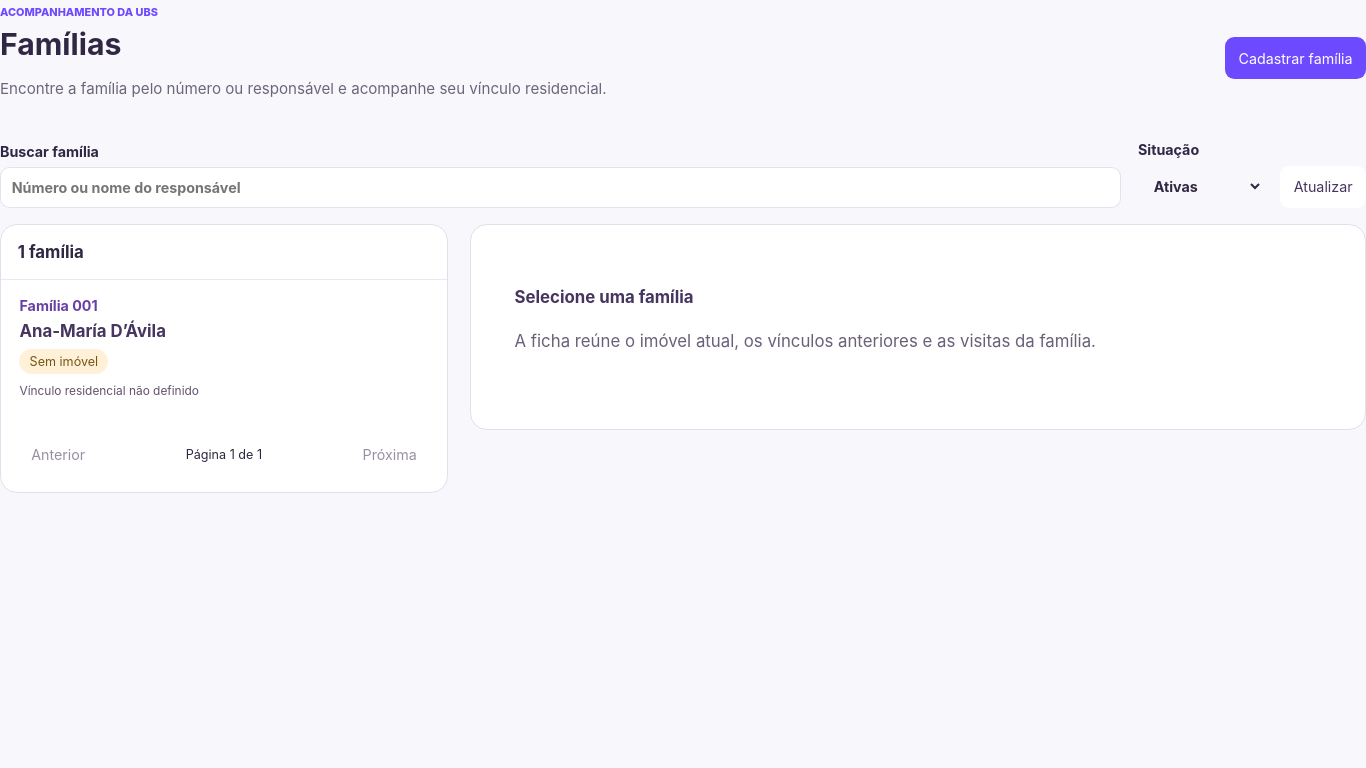
Cadastro e acompanhamento de famílias › preserva campos editados após concorrência e protege saída por teclado
Click the button "Família 001": (46, 305) [1,280,447,416]
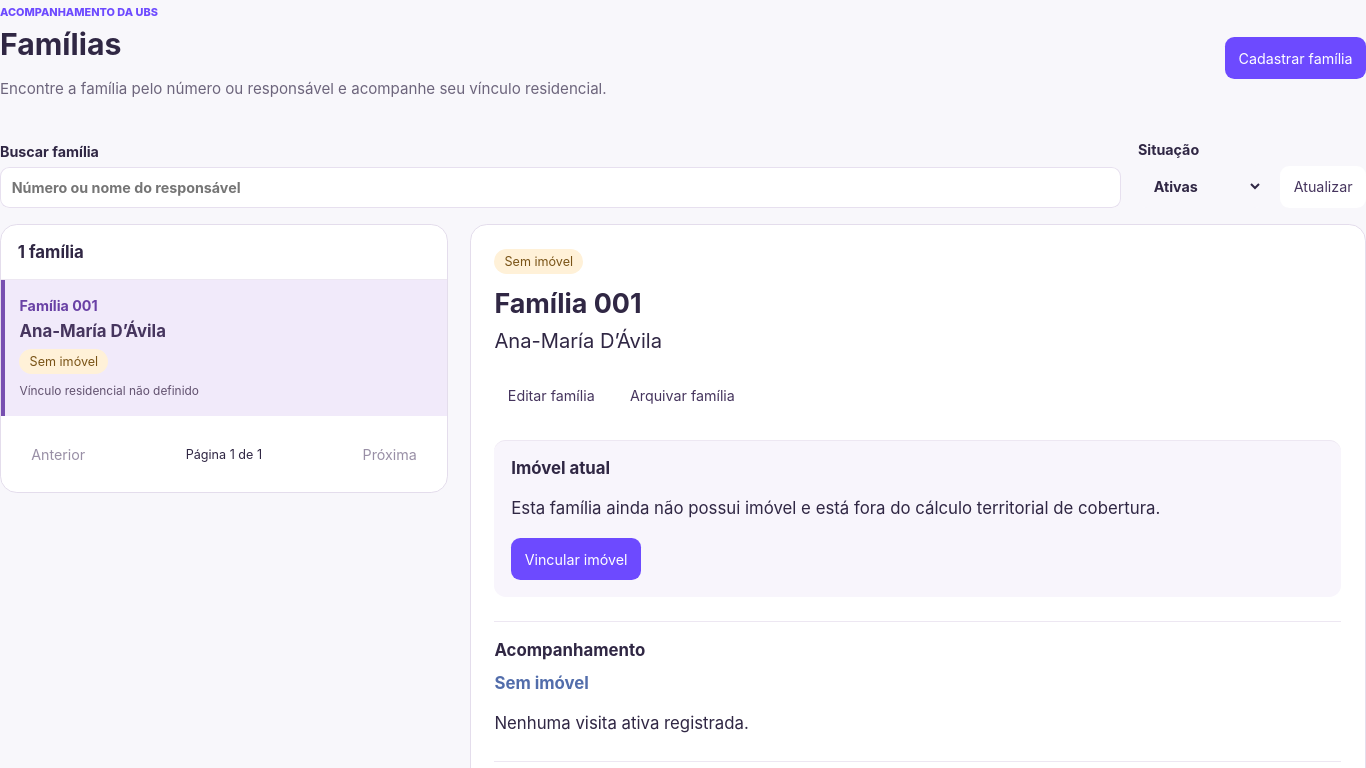
Result: the heading "Família 001" is shown at [494,287,642,319]
Click the button "Editar família": (551, 395) [494,374,608,416]
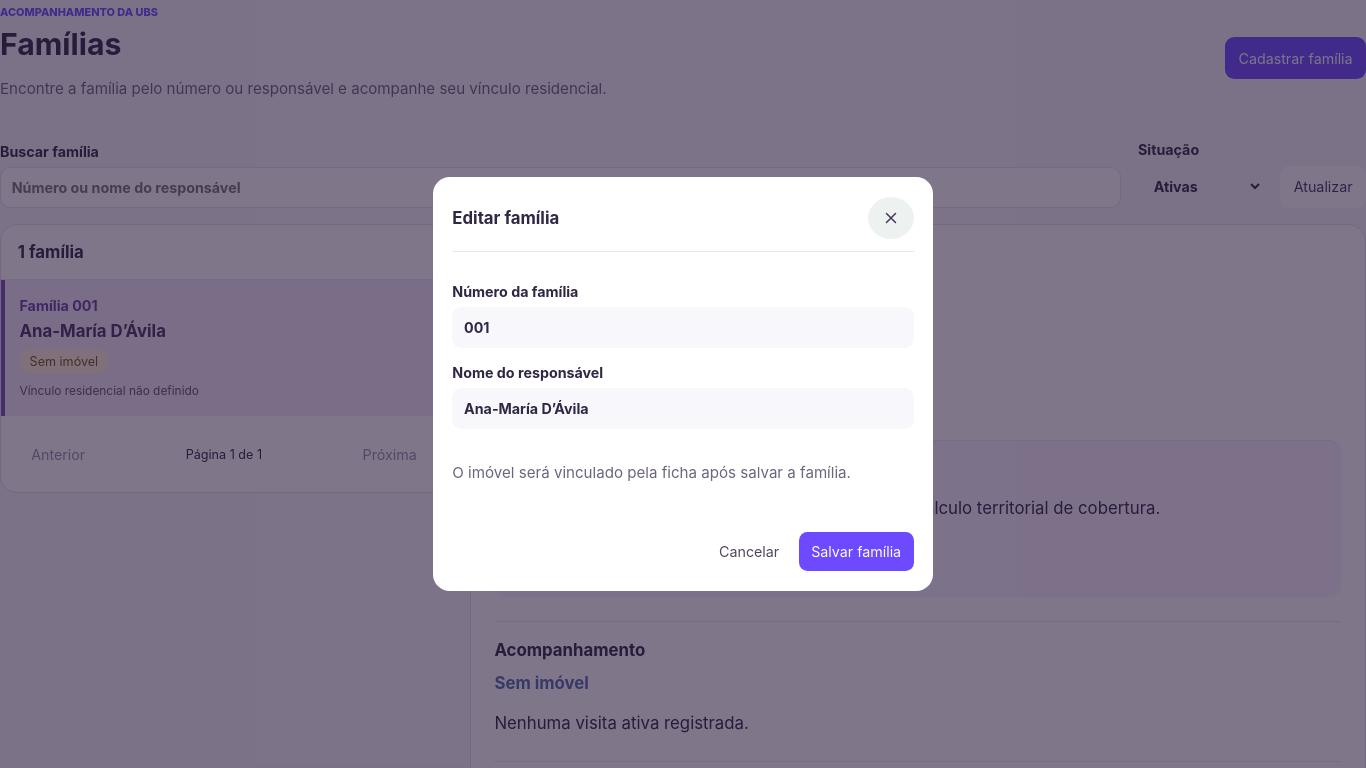
Replace the text in the field labelled "Nome do responsável" with "Nome alterado": (683, 408) [452,388,914,429]
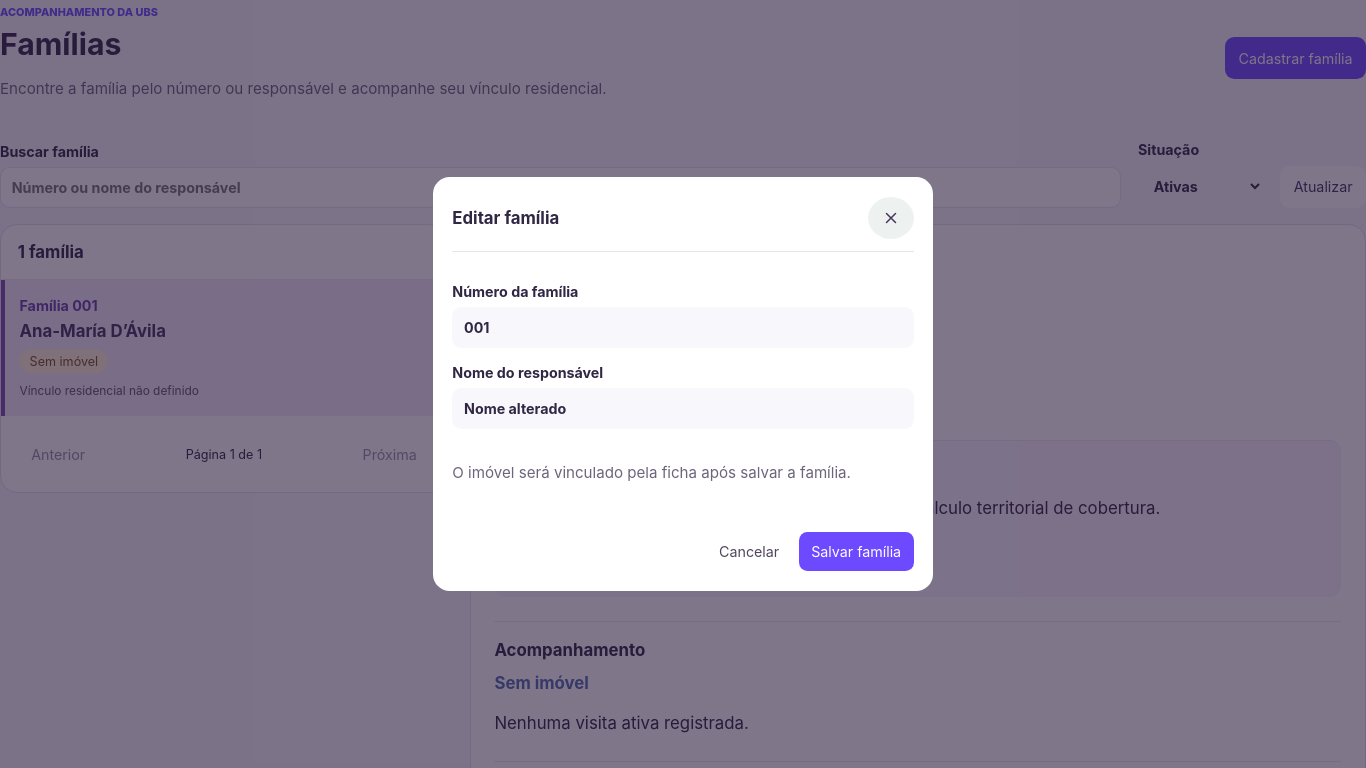
Submit the dialog "Editar família", box [433,178,933,591]
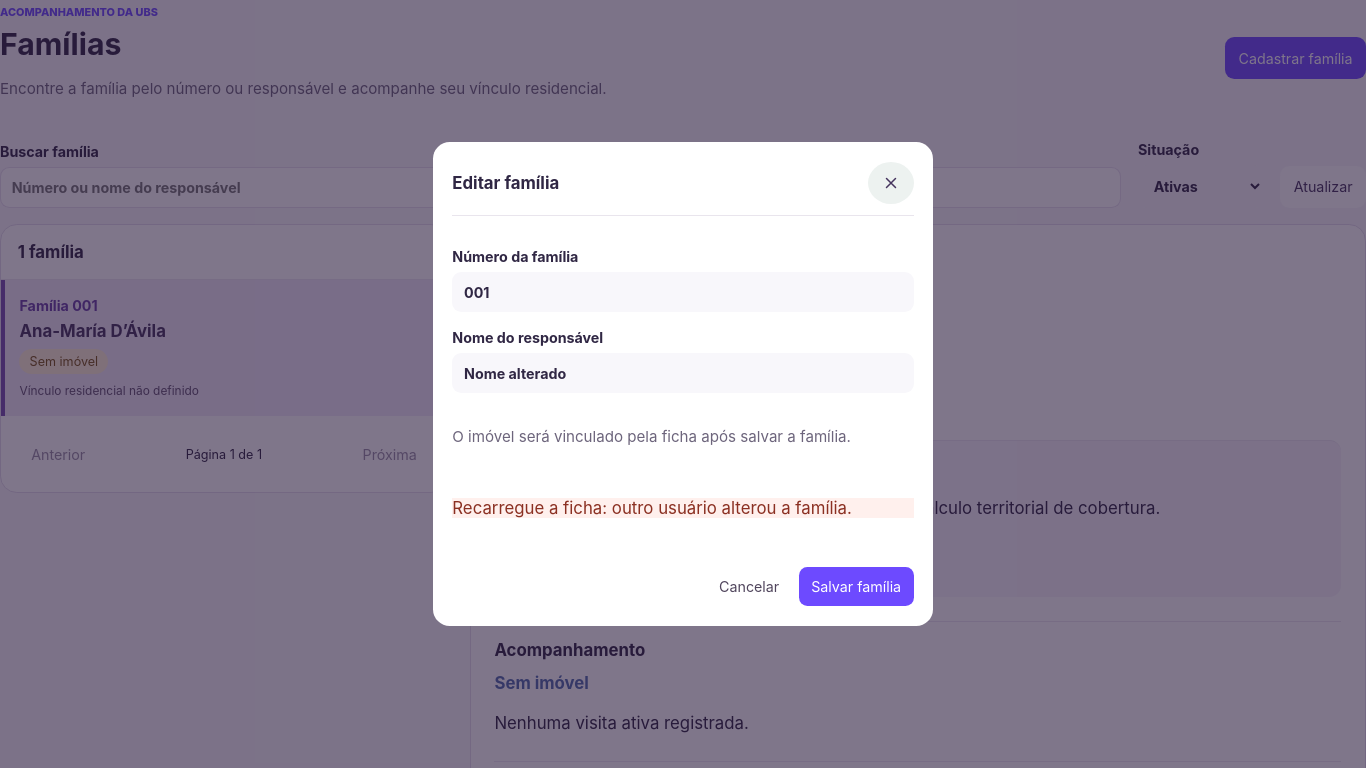
Result: the message shows "Recarregue a ficha" at [452,498,852,518]
Press Escape
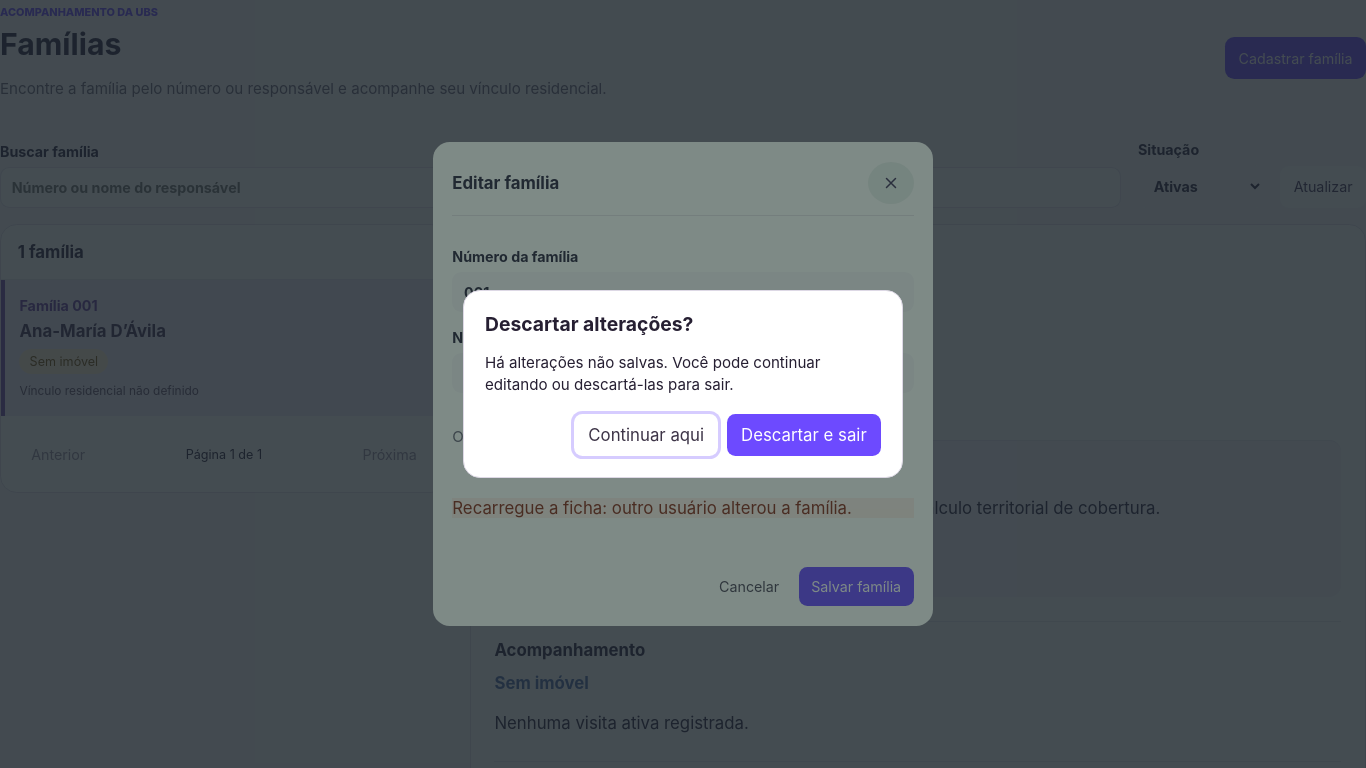
Result: the dialog "Descartar alterações?" is shown at [463,290,903,478]
